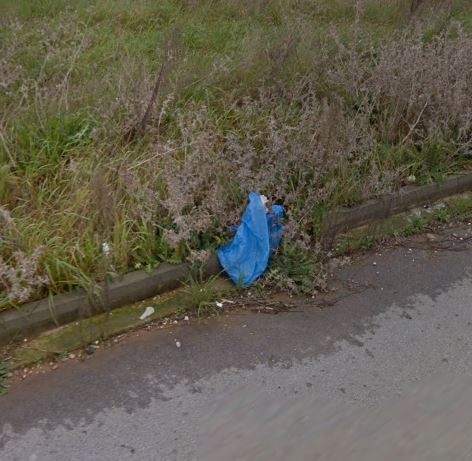trash: (206, 185, 290, 294)
